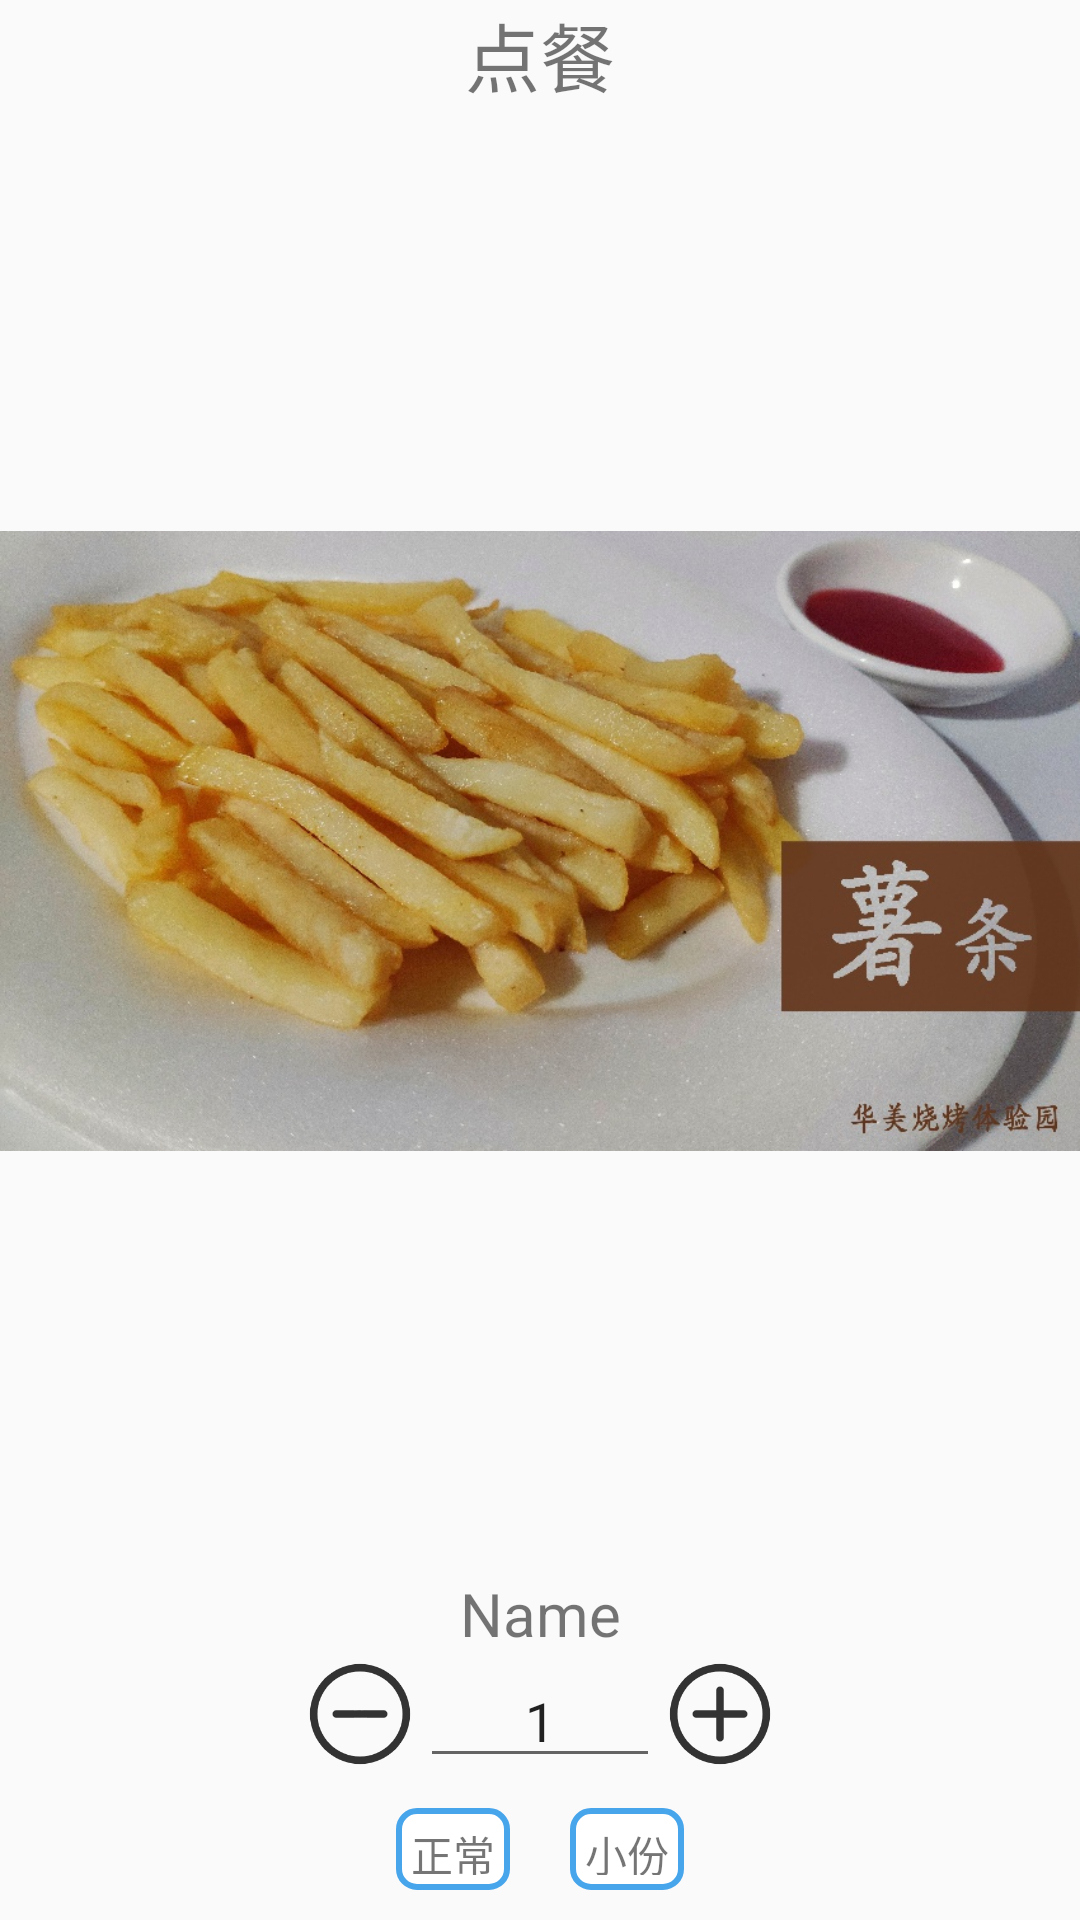

Where to tap for icons on this 1080*1920 app screen, as (x=x, y=y):
add: (x=720, y=1714)
sub: (x=360, y=1714)
